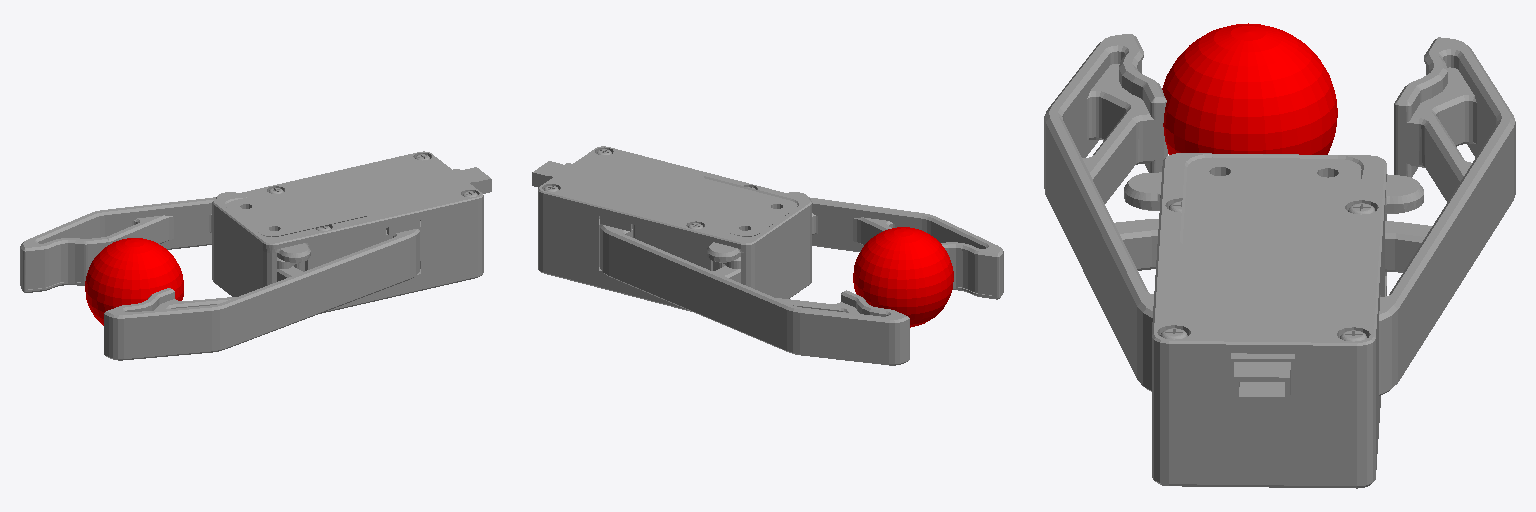
URDF robot description (test_robot):
<?xml version="1.0" encoding="UTF-8"?>
<robot name="test_robot">

<joint name="base_link_to" type="fixed">
  <parent link="base_link"/>
  <child link="servo_00"/>
  <origin xyz="0.0 0.0 0.0" rpy="0 0 1.57" />
</joint>

  <joint name="joint_00" type="revolute">
    <parent link="servo_00"/>
    <child link="link_00"/>
    <limit lower="-2.61" upper="2.61" effort="0" velocity="10"/>
    <axis xyz="0 0 1"/>
    <origin xyz="0.0 0.0 0.019" rpy="0 0 1.57" />
  </joint>

  <joint name="link_fixed_00" type="fixed">
    <parent link="link_00"/>
    <child link="servo_01"/>
    <origin xyz="0.0 0.0 0.042" rpy="0 0 0" />
  </joint>


  <joint name="joint_01" type="revolute">
    <parent link="servo_01"/>
    <child link="link_01"/>
    <limit lower="-1.57" upper="1.57" effort="0" velocity="10"/>
    <axis xyz="0 -1 0"/>
    <origin xyz="0.0 0.0 0.0" rpy="0 0 0" />
  </joint>

  <joint name="link_fixed_01" type="fixed">
    <parent link="link_01"/>
    <child link="link_02"/>
    <origin xyz="0.008 0 0.025" rpy="0 0 0" />
  </joint>

  <joint name="link_fixed_02" type="fixed">
    <parent link="link_02"/>
    <child link="servo_02"/>
    <origin xyz="0.025 0 0.022" rpy="0 0 0" />
  </joint>

  <joint name="joint_02" type="revolute">
    <parent link="servo_02"/>
    <child link="link_03"/>
    <limit lower="-1.57" upper="1.57" effort="0" velocity="10"/>
    <axis xyz="0 -1 0"/>
    <origin xyz="0 0 0" rpy="0 0 0" />
  </joint>

  <joint name="link_fixed_03" type="fixed">
    <parent link="link_03"/>
    <child link="link_03a"/>
    <origin xyz="0 0 0.0" rpy="0 0 0" />
  </joint>

  <joint name="joint_03" type="revolute">
    <parent link="link_03a"/>
    <child link="servo_03"/>
    <limit lower="-1.57" upper="1.57" effort="0" velocity="10"/>
    <axis xyz="0 1 0"/>
    <origin xyz="0.05 0.0 0" rpy="0 0 0" />
  </joint>

  <joint name="link_fixed_04" type="fixed">
    <parent link="servo_03"/>
    <child link="link_03b"/>
    <origin xyz="0.02 0 -0.022" rpy="0 0 0"/>
  </joint>

  <joint name="gripper_fixed" type="fixed">
    <parent link="link_03b"/>
    <child link="gripper"/>
    <origin xyz="0.045 0.0 0.0" rpy="0 0 0"/>
  </joint>

  <joint name="end" type="fixed">
    <parent link="gripper" />
    <child link="end"/>
    <origin xyz="0.043 0.0 0.0" rpy="0 0 0"/>
  </joint>

<link name="base_link">
  <inertial>
    <origin xyz="0 0 0" rpy="0 0 0"/>
    <mass value="0"/>
    <inertia ixx="0."  ixy="0"  ixz="0" iyy="0" iyz="0" izz="0" />
  </inertial>
</link>

<link name="servo_00">
  <inertial>
    <origin xyz="0 0 0" rpy="0 0 0"/>
    <mass value="0.053"/>
    <inertia ixx="0.001"  ixy="0"  ixz="0" iyy="0.001" iyz="0" izz="0.001" />
  </inertial>
  <collision name="servo_00_collision">
    <origin xyz="0 0 0" rpy="1.57 0 0" />
    <geometry>
      <mesh filename="arm_stl/ax12.stl" scale="0.001 0.001 0.001"/>
    </geometry>
  </collision>
  <visual>
    <origin xyz="0 0 0" rpy="1.57 0 0" />
    <geometry>
      <mesh filename="arm_stl/ax12.stl" scale="0.001 0.001 0.001"/>
    </geometry>
    <material name="light_blue">
      <color rgba="1 0 0 1"/>
    </material>
  </visual>
</link>

<link name="servo_01">
  <inertial>
    <origin xyz="0 0 0" rpy="0 0 0"/>
    <mass value="0.053"/>
    <inertia ixx="0.001"  ixy="0"  ixz="0" iyy="0.001" iyz="0" izz="0.001" />
  </inertial>
  <collision name="servo_01_collision">
    <origin xyz="0 0 0" rpy="0 0 0" />
    <geometry>
      <mesh filename="arm_stl/ax12.stl" scale="0.001 0.001 0.001"/>
    </geometry>
  </collision>
  <visual>
    <origin xyz="0 0 0" rpy="0 0 0" />
    <geometry>
      <mesh filename="arm_stl/ax12.stl" scale="0.001 0.001 0.001"/>
    </geometry>
    <material name="light_blue">
      <color rgba="0.658 0.658 0.658 1"/>
    </material>
  </visual>
</link>

<link name="servo_02">
  <inertial>
    <origin xyz="0 0 0" rpy="0 0 0"/>
    <mass value="0.053"/>
    <inertia ixx="0.001"  ixy="0"  ixz="0" iyy="0.001" iyz="0" izz="0.001" />
  </inertial>
  <collision name="servo_02_collision">
    <origin xyz="0 0 0" rpy="0 1.57 0" />
    <geometry>
      <mesh filename="arm_stl/ax12.stl" scale="0.001 0.001 0.001"/>
    </geometry>
  </collision>
  <visual>
    <origin xyz="0 0 0" rpy="0 1.57 0" />
    <geometry>
      <mesh filename="arm_stl/ax12.stl" scale="0.001 0.001 0.001"/>
    </geometry>
    <material name="light_blue">
      <color rgba="0.658 0.658 0.658 1"/>
    </material>
  </visual>
</link>

<link name="servo_03">
  <inertial>
    <origin xyz="0 0 0" rpy="0 0 0"/>
    <mass value="0.053"/>
    <inertia ixx="0.001"  ixy="0"  ixz="0" iyy="0.001" iyz="0" izz="0.001" />
  </inertial>
  <collision name="servo_03_collision">
    <origin xyz="0 0 0" rpy="0 -1.57 0" />
    <geometry>
      <mesh filename="arm_stl/ax12.stl" scale="0.001 0.001 0.001"/>
    </geometry>
  </collision>
  <visual>
    <origin xyz="0 0 0" rpy="0 -1.57 0" />
    <geometry>
      <mesh filename="arm_stl/ax12.stl" scale="0.001 0.001 0.001"/>
    </geometry>
    <material name="light_blue">
      <color rgba="0.658 0.658 0.658 1"/>
    </material>
  </visual>
</link>

<link name="link_00">
  <inertial>
    <origin xyz="0 0 -0.0" rpy="0 0 0"/>
    <mass value="0.001"/>
    <inertia ixx="0.001"  ixy="0"  ixz="0" iyy="0.001" iyz="0" izz="0.001" />
  </inertial>
  <collision name="link_00_collision">
    <origin xyz="0 0 0" rpy="0 3.14 0" />
    <geometry>
      <mesh filename="arm_stl/F3.stl" scale="0.001 0.001 0.001"/>
    </geometry>
  </collision>
  <visual>
    <origin xyz="0 0 0" rpy="0 3.14 0" />
    <geometry>
      <mesh filename="arm_stl/F3.stl" scale="0.001 0.001 0.001"/>
    </geometry>
    <material name="light_blue">
      <color rgba="0.658 0.658 0.658 1"/>
    </material>
  </visual>
</link>

<link name="link_01">
  <inertial>
    <origin xyz="0 0 0" rpy="0 0 0"/>
    <mass value="0.001"/>
    <inertia ixx="0.001"  ixy="0"  ixz="0" iyy="0.001" iyz="0" izz="0.001" />
  </inertial>
  <collision name="link_01_collision">
    <origin xyz="0 0 0" rpy="0 0 0" />
    <geometry>
      <mesh filename="arm_stl/F2.stl" scale="0.001 0.001 0.001"/>
    </geometry>
  </collision>
  <visual>
    <origin xyz="0 0 0" rpy="0 0 0" />
    <geometry>
      <mesh filename="arm_stl/F2.stl" scale="0.001 0.001 0.001"/>
    </geometry>
    <material name="light_blue">
      <color rgba="0.658 0.658 0.658 1"/>
    </material>
  </visual>
</link>

<link name="link_02">
  <inertial>
    <origin xyz="0 0 0" rpy="0 0 0"/>
    <mass value="0.001"/>
    <inertia ixx="0.001"  ixy="0"  ixz="0" iyy="0.001" iyz="0" izz="0.001" />
  </inertial>
  <collision name="link_02_collision">
    <origin xyz="0 0 0" rpy="0 3.14 0" />
    <geometry>
      <mesh filename="arm_stl/F3.stl" scale="0.001 0.001 0.001"/>
    </geometry>
  </collision>
  <visual>
    <origin xyz="0 0 0" rpy="0 3.14 0" />
    <geometry>
      <mesh filename="arm_stl/F3.stl" scale="0.001 0.001 0.001"/>
    </geometry>
    <material name="light_blue">
      <color rgba="0.658 0.658 0.658 1"/>
    </material>
  </visual>
</link>

<link name="link_03">
  <inertial>
    <origin xyz="0 0 0" rpy="0 0 0"/>
    <mass value="0.001"/>
    <inertia ixx="0.001"  ixy="0"  ixz="0" iyy="0.001" iyz="0" izz="0.001" />
  </inertial>
  <collision name="link_03_collision">
    <origin xyz="0 0 0" rpy="0 1.57 0" />
    <geometry>
      <mesh filename="arm_stl/F2.stl" scale="0.001 0.001 0.001"/>
    </geometry>
  </collision>
  <visual>
    <origin xyz="0.0 0 0" rpy="0 1.57 0" />
    <geometry>
      <mesh filename="arm_stl/F2.stl" scale="0.001 0.001 0.001"/>
    </geometry>
    <material name="light_blue">
      <color rgba="0.658 0.658 0.658 1"/>
    </material>
  </visual>
</link>

<link name="link_03a">
  <inertial>
    <origin xyz="0 0 0" rpy="0 0 0"/>
    <mass value="0.001"/>
    <inertia ixx="0.001"  ixy="0"  ixz="0" iyy="0.001" iyz="0" izz="0.001" />
  </inertial>
  <collision name="link_03a_collision">
    <origin xyz="0.05 0 0" rpy="0 -1.57 0" />
    <geometry>
      <mesh filename="arm_stl/F2.stl" scale="0.001 0.001 0.001"/>
    </geometry>
  </collision>
  <visual>
    <origin xyz="0.05 0 0" rpy="0 -1.57 0" />
    <geometry>
      <mesh filename="arm_stl/F2.stl" scale="0.001 0.001 0.001"/>
    </geometry>
    <material name="light_blue">
      <color rgba="0.658 0.658 0.658 1"/>
    </material>
  </visual>
</link>

<link name="link_03b">
  <inertial>
    <origin xyz="0 0 0" rpy="0 0 0"/>
    <mass value="0.001"/>
    <inertia ixx="0."  ixy="0"  ixz="0" iyy="0" iyz="0" izz="0" />
  </inertial>
  <collision name="link_03b_collision">
    <origin xyz="0 0 0" rpy="0 3.14 0" />
    <geometry>
      <mesh filename="arm_stl/F3.stl" scale="0.001 0.001 0.001"/>
    </geometry>
  </collision>
  <visual>
    <origin xyz="0 0 0 " rpy="0 3.14 0" />
    <geometry>
      <mesh filename="arm_stl/F3.stl" scale="0.001 0.001 0.001"/>
    </geometry>
    <material name="light_gray">
<color rgba="0.658 0.658 0.658 1"/>
    </material>
  </visual>
</link>

<link name="gripper">
  <inertial>
    <origin xyz="0 0 0" rpy="0 0 0"/>
    <mass value="0.056"/>
    <inertia ixx="0."  ixy="0"  ixz="0" iyy="0" iyz="0" izz="0" />
  </inertial>
  <collision name="gripper_collision">
    <origin xyz="0 0.025 0" rpy="0 0 0" />
    <geometry>
      <mesh filename="arm_stl/gripper.stl" scale="0.001 0.001 0.001"/>
    </geometry>
  </collision>
   <visual>
      <geometry>
        <mesh filename="arm_stl/gripper.stl"/>
      </geometry>
        <origin xyz = "0 0.025 0" rpy = "0 0 0" />
    <material name = "black">
      <color rgba="0.658 0.658 0.658 1"/>
    </material>
  </visual>
</link>

<link name="end">
  <inertial>
    <origin xyz="0 0 0" rpy="0 0 0"/>
    <mass value="0"/>
    <inertia ixx="0."  ixy="0"  ixz="0" iyy="0" iyz="0" izz="0" />
  </inertial>
   <visual>
      <geometry>
        <sphere radius="0.01"/>
      </geometry>
        <origin xyz = "0 0 0" rpy = "0 0 0" />
     <material name = "red">
      <color rgba="1 0 0 1"/>
     </material>
   </visual>
</link>

</robot>

--- Facts derived from the render (not from the file) ---
Views: 3 orthographic renders of the robot side by side, from view 1: azimuth 30°, elevation 25°; view 2: azimuth 150°, elevation 25°; view 3: azimuth 270°, elevation 25°.
Model test_robot with 13 links and 12 joints (4 revolute, 8 fixed), rooted at base_link, posed all joints at 0.
Links seen in each view (by area): view 1: gripper, end; view 2: gripper, end; view 3: gripper, end.
Boxes of the visible links, <box> form: gripper: <box>20,151,491,360</box>; end: <box>85,238,183,325</box>; gripper: <box>532,146,1003,365</box>; end: <box>853,227,953,327</box>; gripper: <box>1044,34,1515,488</box>; end: <box>1162,23,1337,154</box>.
Bounding box of the posed robot: 0.0965 × 0.0525 × 0.0209 m (x, y, z).
1 mesh visuals loaded from 4 distinct referenced files (1 binary STL); not drawn: 10 (reference not matched to a file when rendering).